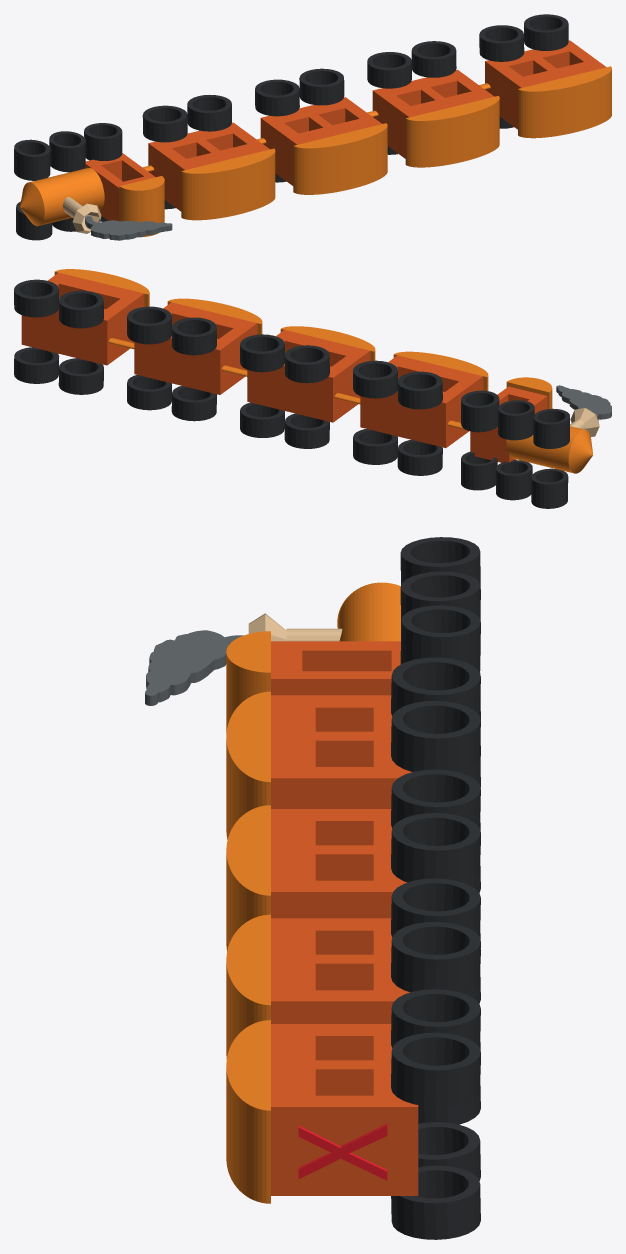
File: tinker.obj
The picture shows the model from 3 angles, top to bottom: view 1: azimuth 30°, elevation 25°; view 2: azimuth 150°, elevation 25°; view 3: azimuth 270°, elevation 25°; orthographic projection. The views are drawn at different scales.
Parts seen in each view (by area): view 1: group_0_16089887, group_0_14900002, group_0_2829873, group_0_6383466, group_0_14860437; view 2: group_0_2829873, group_0_14900002, group_0_16089887, group_0_6383466, group_0_14860437; view 3: group_0_14900002, group_0_2829873, group_0_16089887, group_0_6383466, group_0_15277357, group_0_14860437.
Boxes of the visible parts, x1,y1,x2,y2 form: group_0_16089887: (19, 66, 611, 237); group_0_14900002: (83, 40, 606, 220); group_0_2829873: (14, 14, 568, 240); group_0_6383466: (85, 216, 172, 240); group_0_14860437: (63, 197, 101, 233); group_0_2829873: (14, 279, 569, 508); group_0_14900002: (21, 272, 547, 462); group_0_16089887: (54, 269, 592, 473); group_0_6383466: (556, 385, 611, 420); group_0_14860437: (570, 408, 599, 436); group_0_14900002: (271, 641, 418, 1195); group_0_2829873: (391, 537, 480, 1239); group_0_16089887: (226, 582, 400, 1203); group_0_6383466: (145, 630, 243, 705); group_0_15277357: (298, 1124, 387, 1180); group_0_14860437: (248, 613, 342, 641).
Bounding box in the file's own units: 291 × 43 × 75.21.
